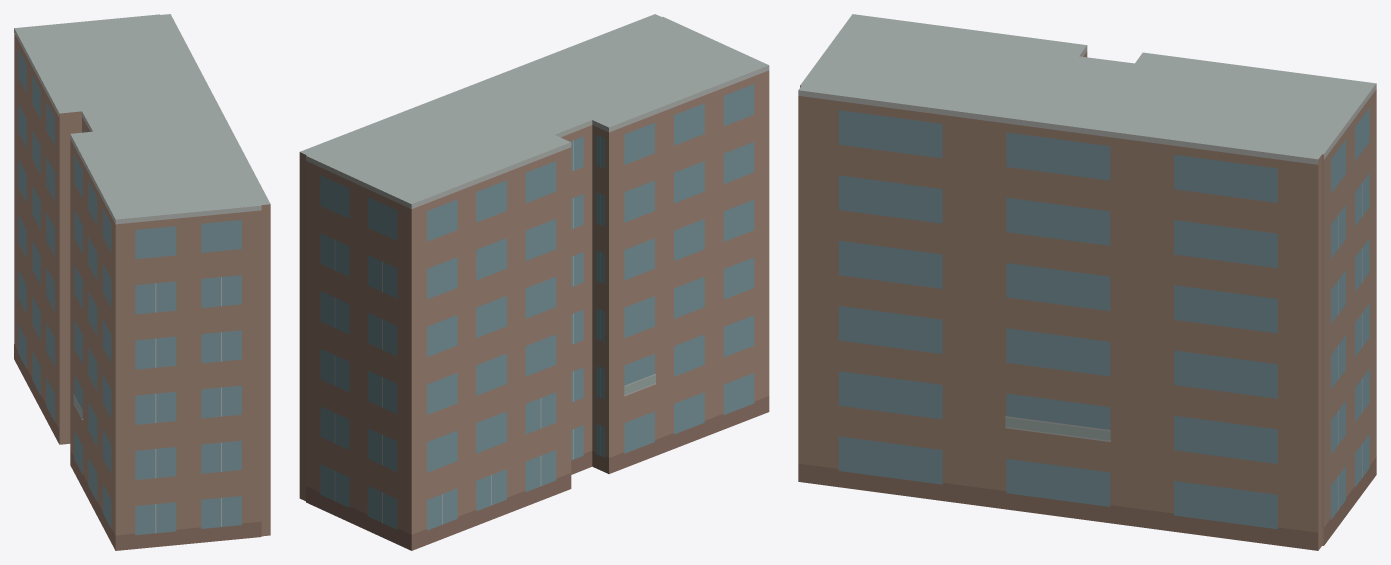
The model's file is survey-upis-32868385.glb.
The picture shows the model from 3 angles, left to right: view 1: azimuth 30°, elevation 25°; view 2: azimuth 150°, elevation 25°; view 3: azimuth 270°, elevation 25°; orthographic projection. The views are drawn at different scales.
Parts seen in each view (by area): view 1: survey-upis-32868385.tmp; view 2: survey-upis-32868385.tmp; view 3: survey-upis-32868385.tmp.
Part boxes in pixels (bbox=[...]): survey-upis-32868385.tmp: bbox=[14, 14, 270, 550]; survey-upis-32868385.tmp: bbox=[299, 14, 769, 550]; survey-upis-32868385.tmp: bbox=[798, 14, 1376, 550].
Bounding box in the file's own units: 13.71 × 17.2 × 23.03.
